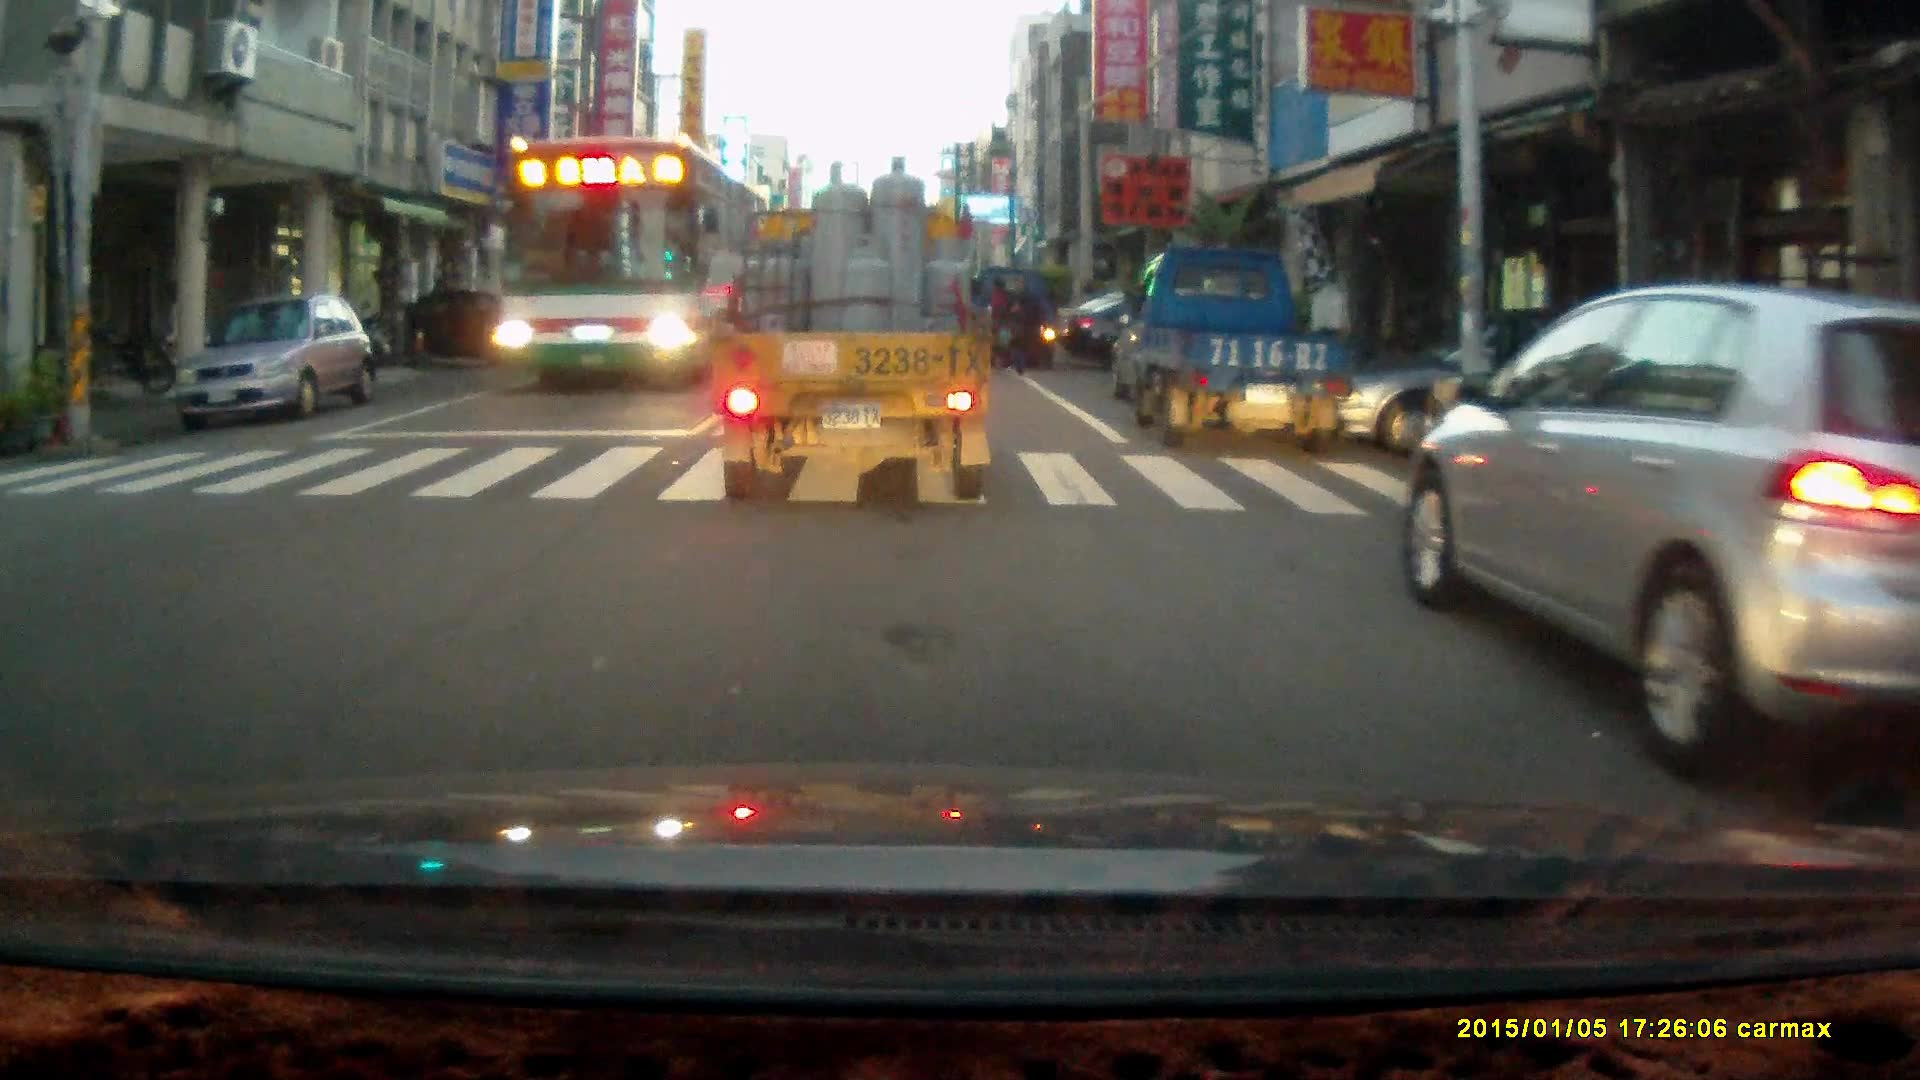pedestrian: (1002, 274, 1045, 377), (981, 277, 1008, 374)
vehicle: (1401, 283, 1920, 799), (714, 151, 999, 505), (490, 135, 763, 392), (1112, 244, 1355, 453), (1332, 320, 1636, 458), (168, 288, 378, 426), (329, 282, 546, 365), (970, 266, 1066, 377)
